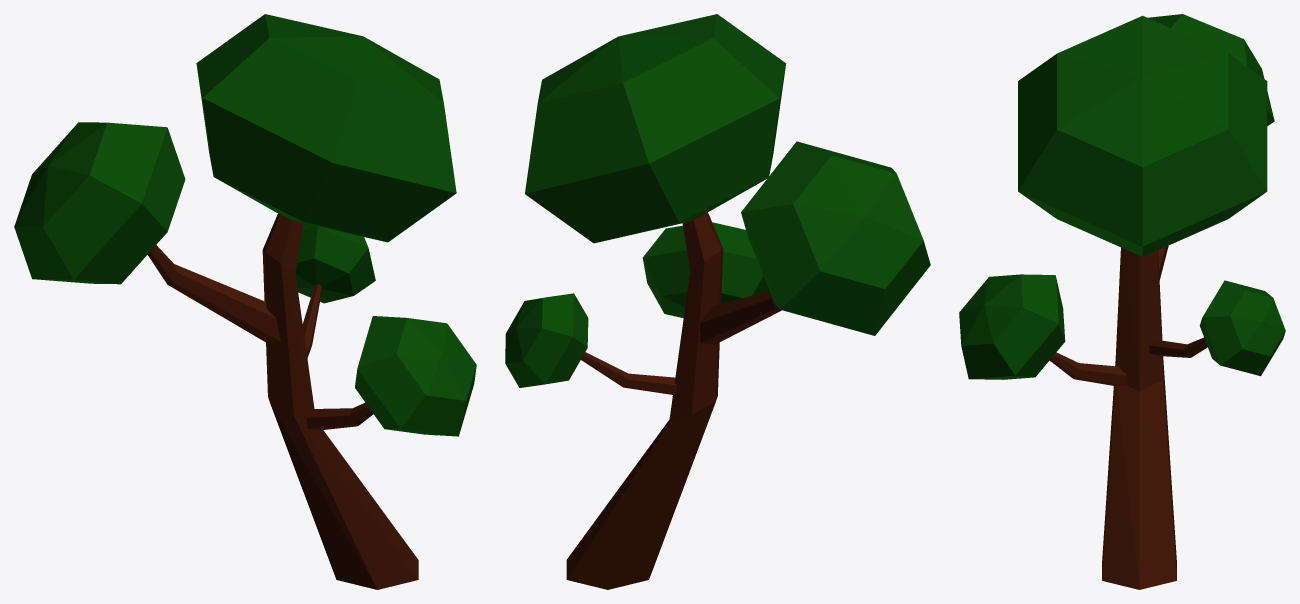
File: tree4.FBX
3 views of the same model, side by side, from view 1: azimuth 30°, elevation 25°; view 2: azimuth 150°, elevation 25°; view 3: azimuth 270°, elevation 25° (orthographic). The views are drawn at different scales.
Parts seen in each view (by area): view 1: Cylinder018; view 2: Cylinder018; view 3: Cylinder018.
Part boxes in pixels (x1,y1,x2,y2): Cylinder018: [14, 14, 476, 589]; Cylinder018: [505, 14, 930, 589]; Cylinder018: [959, 14, 1285, 589].
Size of the model in its own units: 111 by 149 by 86.53.
